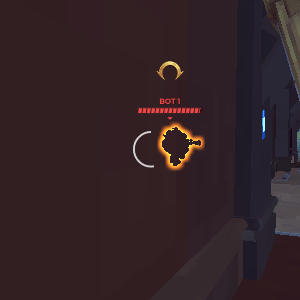model: (159, 126, 199, 169)
